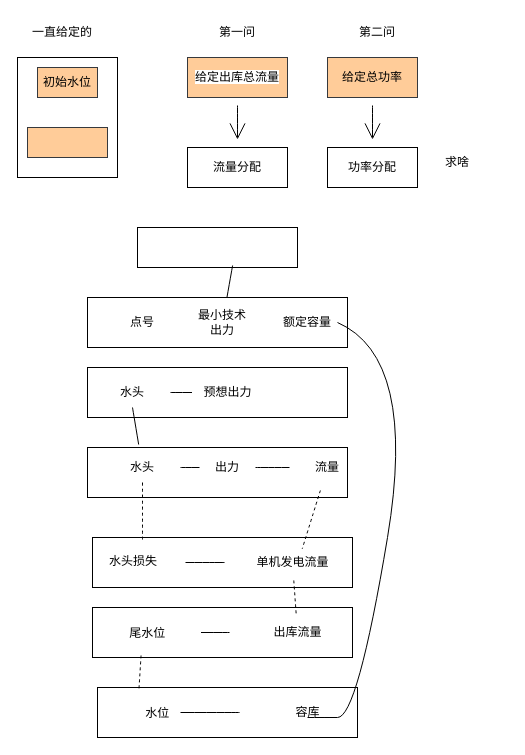
Some shapes in this 525 by 755 pixel diagram are drawn without their labels. Here are the shapes that lost their labels. From the top down, the centre of each, then its label:
At (x=67, y=142): "入库总流量".
At (x=217, y=247): "机器：六台，三类各两台".
